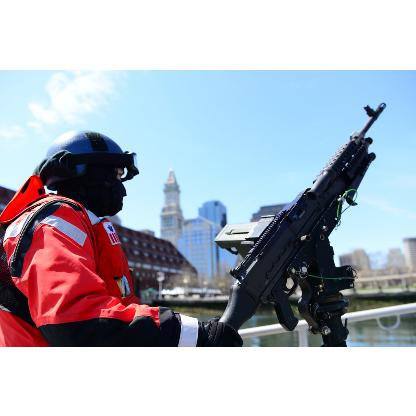gun: (204, 114, 378, 344)
